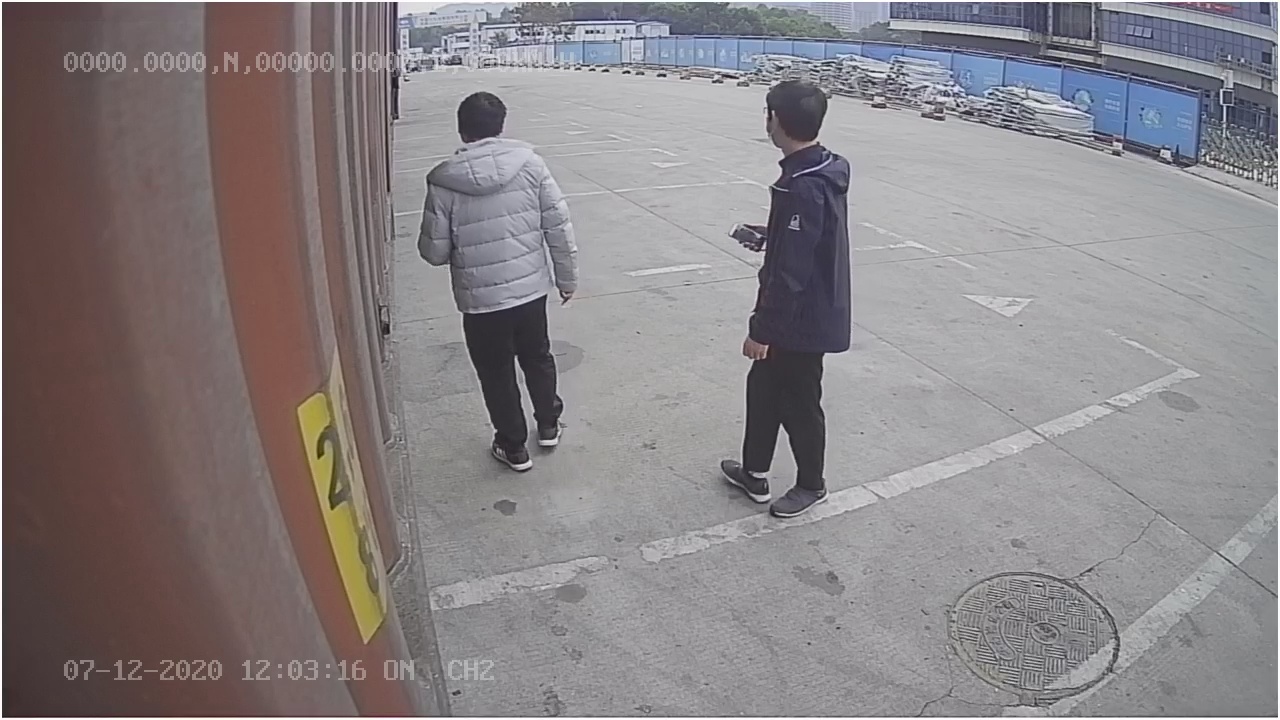person: (415, 89, 585, 472), (720, 69, 859, 517)
